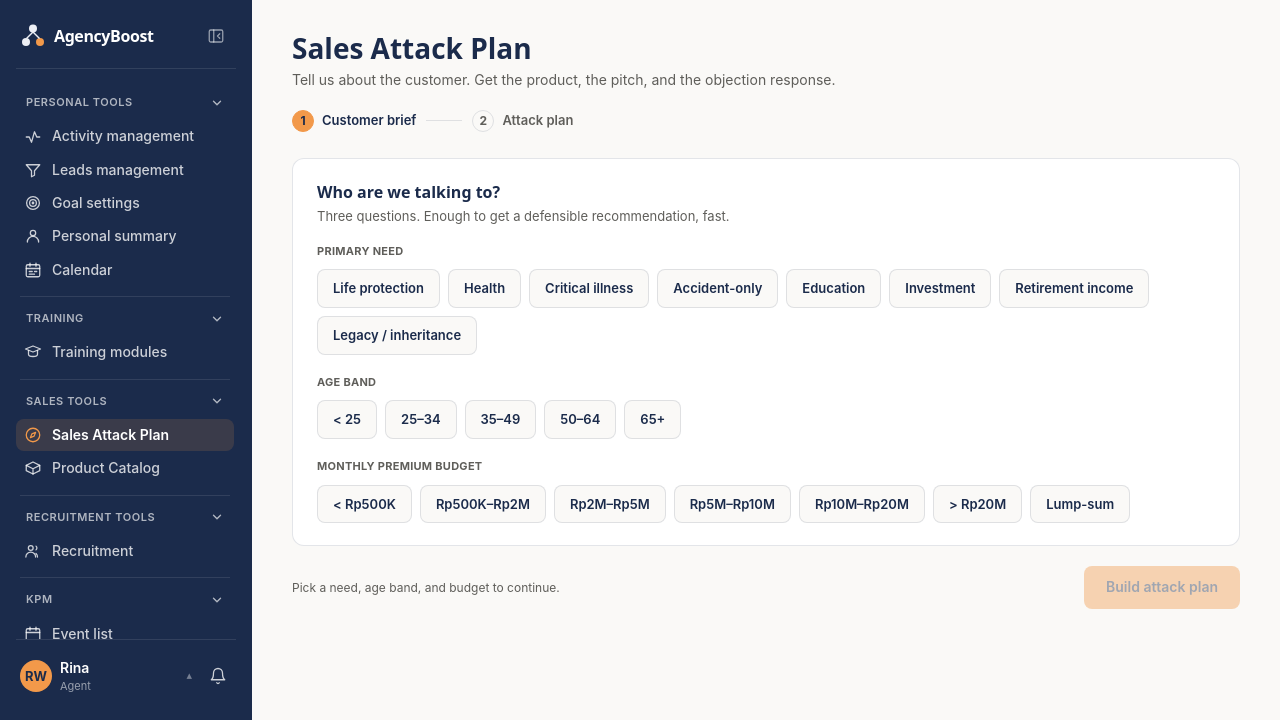
/attack-plan, the Sales Attack Plan (P14-T8) › the brief, verbatim (AC-1, AC-2) › P14-T8 AC-2 Build is disabled, with its note, until the brief is complete; then the note empties
Expected: the heading "Who are we talking to?" is shown, [317, 181, 500, 203]
Expected: the button "Build attack plan" is disabled, [1084, 566, 1240, 609]
Click the button "Retirement income" at (1074, 289), box [999, 269, 1149, 308]
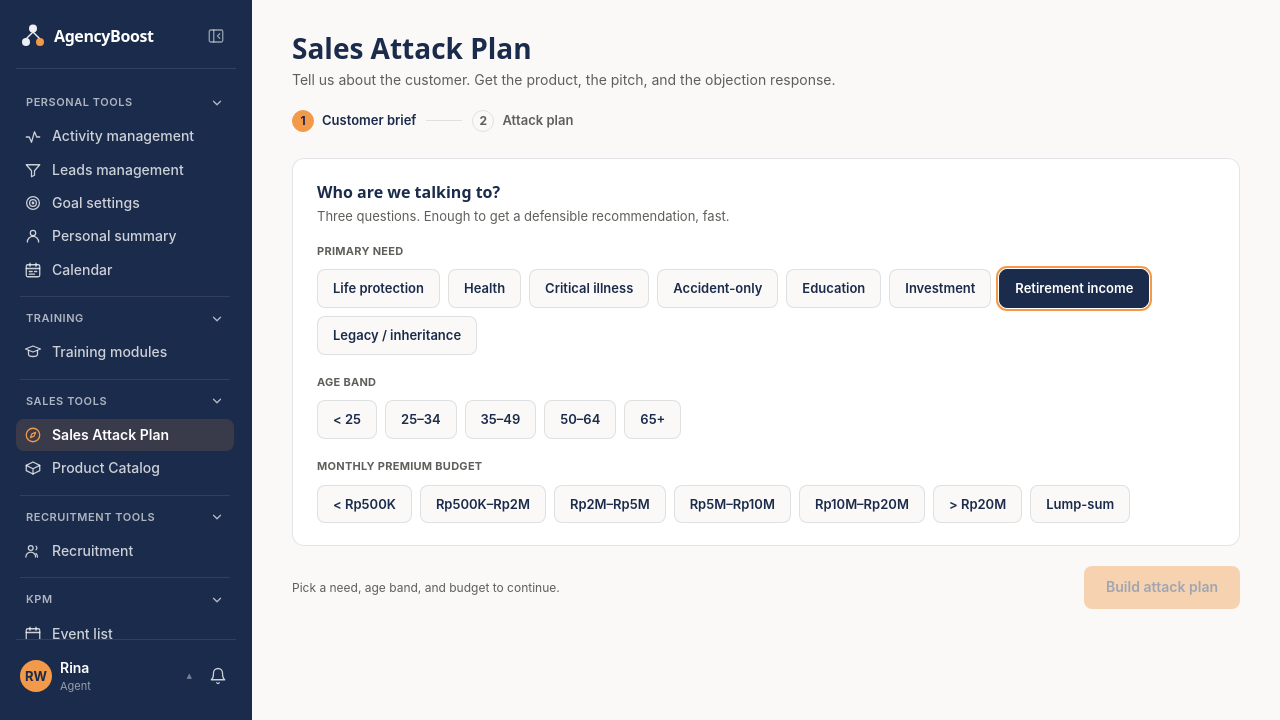
Click the button "25–34" at (421, 420), box [385, 400, 457, 439]
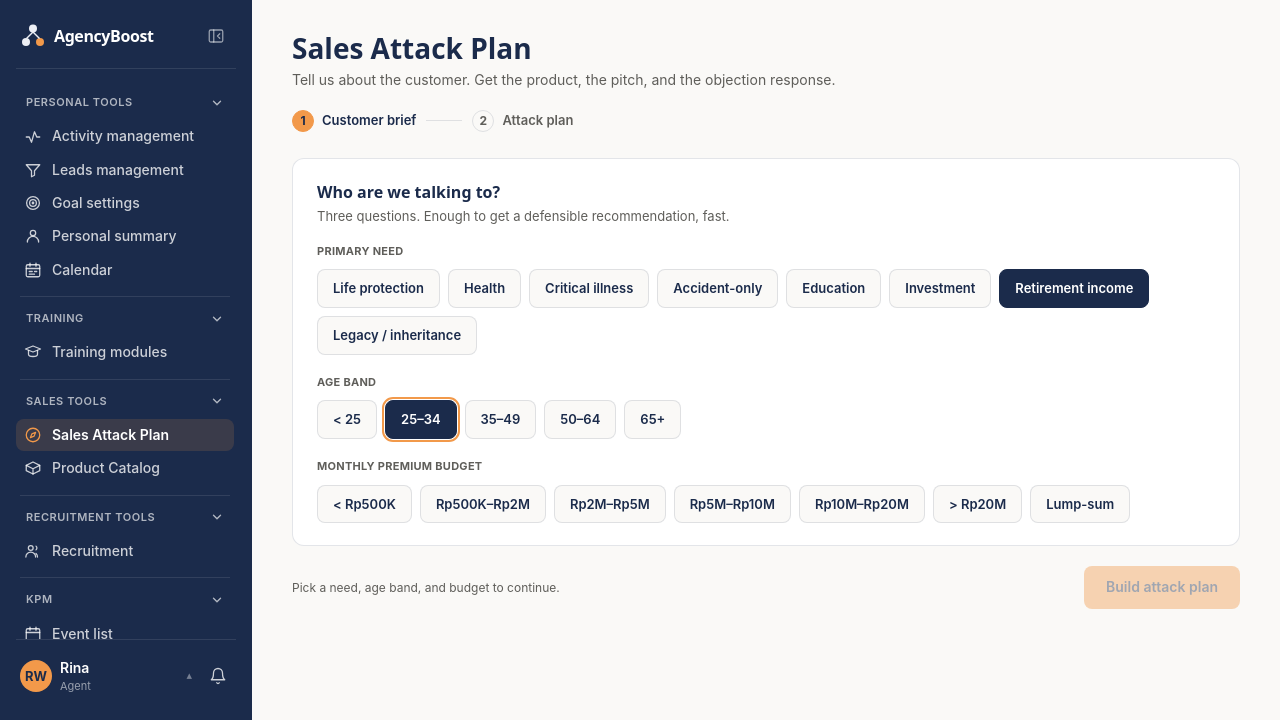
Expected: the button "Build attack plan" is disabled, [1084, 566, 1240, 609]
Click the button "Rp500K–Rp2M" at (483, 504), box [420, 485, 546, 523]
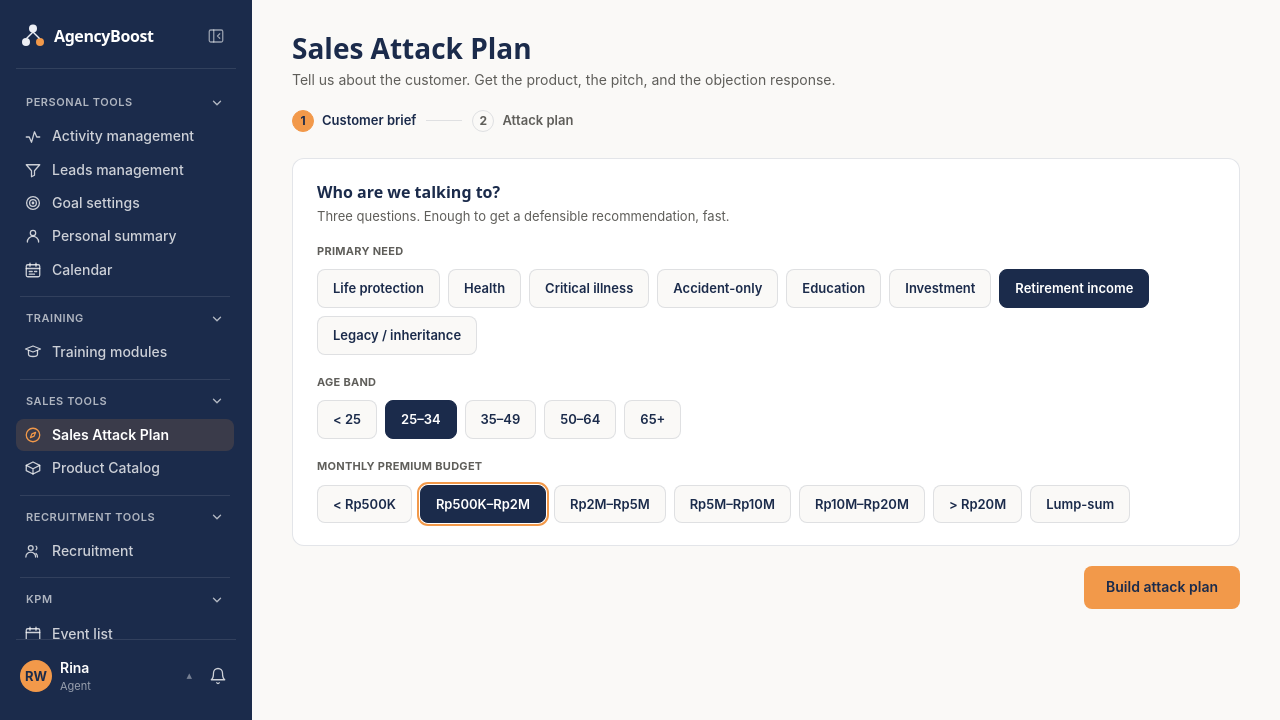
Expected: the button "Build attack plan" is enabled, [1084, 566, 1240, 609]
Expected: the text "Pick a need, age band, and budget to continue." is gone
